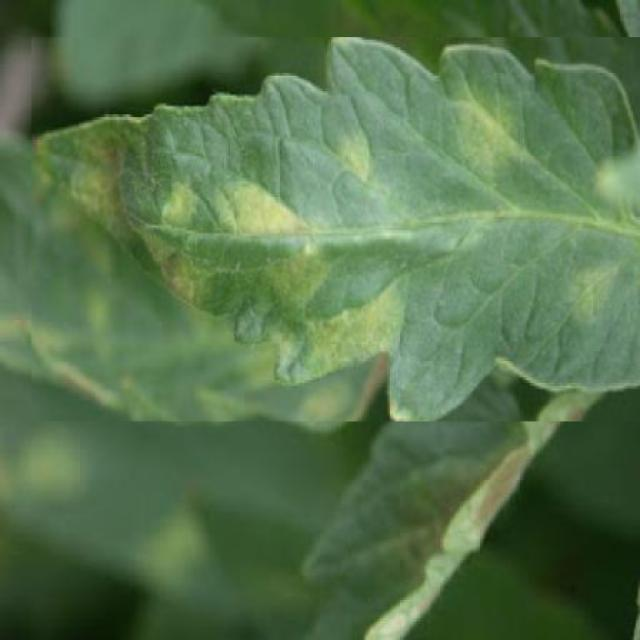Leaf Mold: (31, 37, 640, 422)
